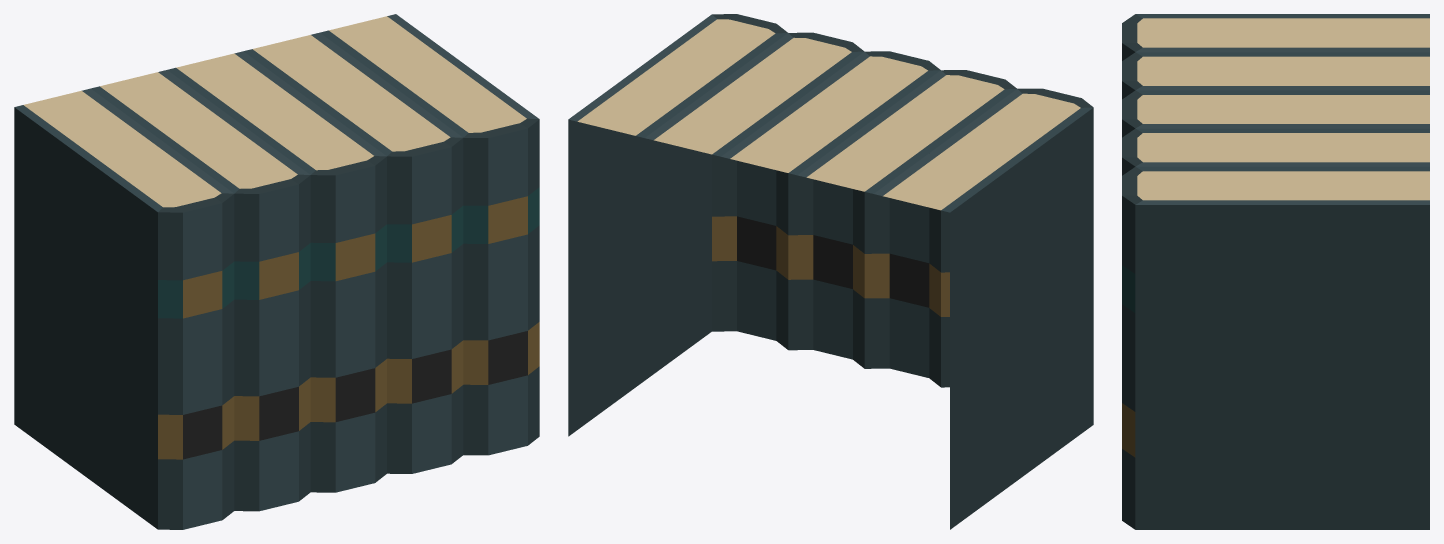
Rendered from Prop_BookBunchH.fbx.
The picture shows the model from 3 angles, left to right: view 1: azimuth 30°, elevation 25°; view 2: azimuth 150°, elevation 25°; view 3: azimuth 270°, elevation 25°; orthographic projection. The views are drawn at different scales.
Parts seen in each view (by area): view 1: Prop_BookBunchH; view 2: Prop_BookBunchH; view 3: Prop_BookBunchH.
Part boxes in pixels (x1,y1,x2,y2): Prop_BookBunchH: (14, 14, 539, 529); Prop_BookBunchH: (568, 14, 1093, 529); Prop_BookBunchH: (1122, 14, 1429, 529).
Bounding box in the file's own units: 32.64 × 25.92 × 22.25.
